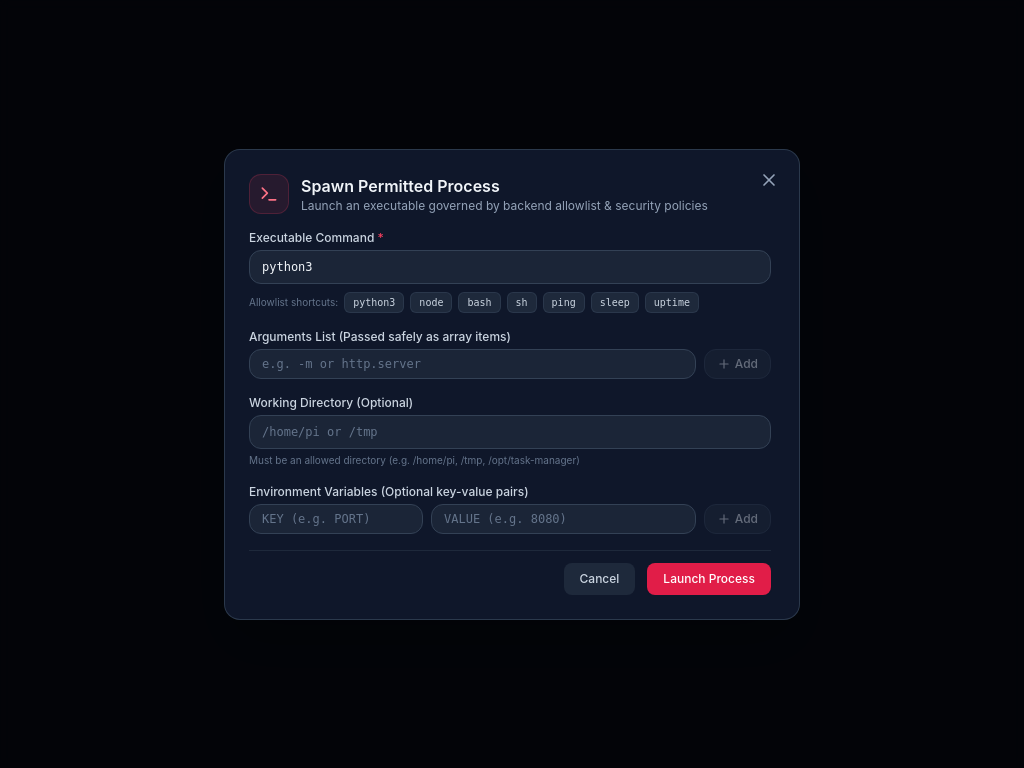
Scenario: CreateProcessDialog › Error path: API failure shows error message in UI › displays the error message returned by the API
The image size is (1024, 768).
Click the button "Launch Process": {"x": 709, "y": 578} [647, 562, 771, 594]
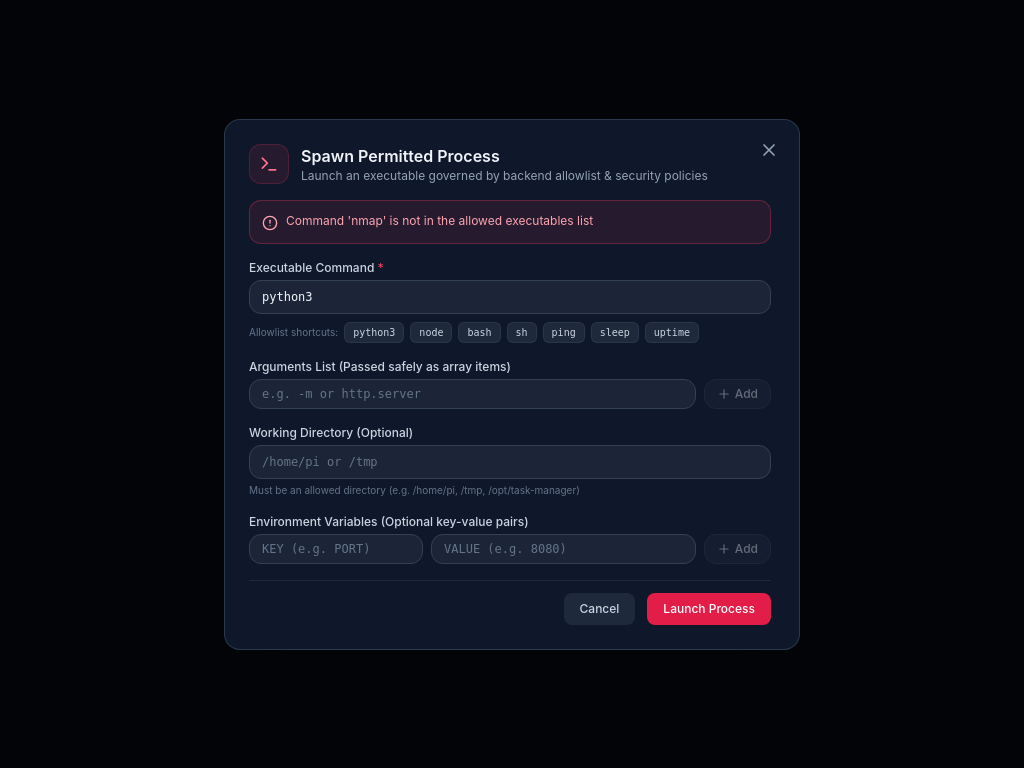
Expected: the text "Command 'nmap' is not in the allowed executables list" is shown, [286, 212, 593, 228]
